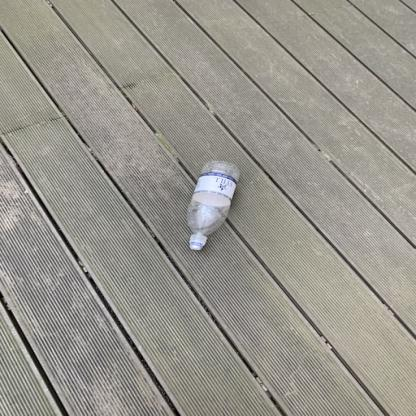trash: (183, 158, 245, 253)
